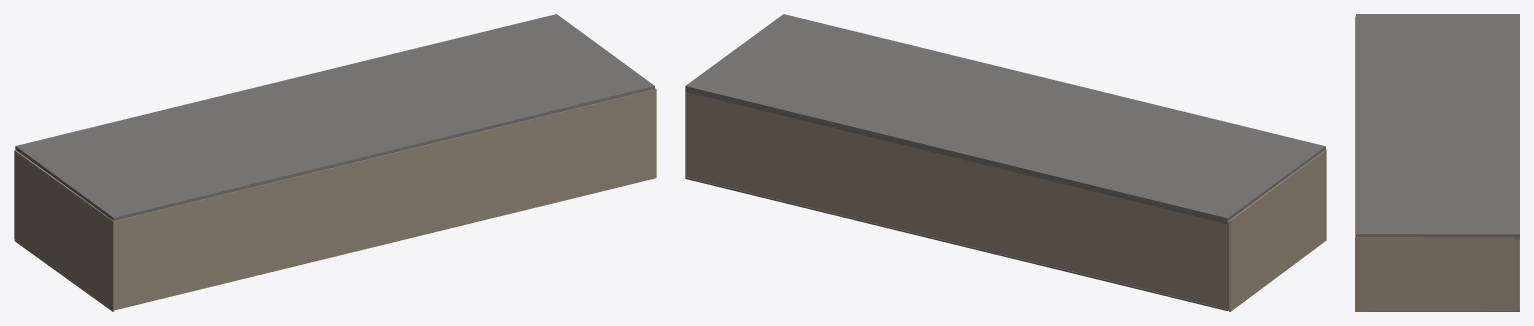
File: hodnik 1.fbx
The picture shows the model from 3 angles, left to right: view 1: azimuth 30°, elevation 25°; view 2: azimuth 150°, elevation 25°; view 3: azimuth 270°, elevation 25°; orthographic projection. The views are drawn at different scales.
Parts seen in each view (by area): view 1: Cube_164, Cube_1, Cube_2; view 2: Cube_164, Cube, Cube_2, Cube_11; view 3: Cube_164, Cube_3, Cube_1, Cube_11, Cube.
Part boxes in pixels (box(x1,y1,x2,y2)): Cube_164: box(15, 14, 654, 220); Cube_1: box(113, 88, 656, 310); Cube_2: box(14, 150, 114, 311); Cube_164: box(685, 14, 1325, 223); Cube: box(685, 92, 1230, 310); Cube_2: box(1229, 149, 1326, 311); Cube_11: box(685, 177, 1227, 310); Cube_164: box(1356, 14, 1519, 239); Cube_3: box(1356, 237, 1517, 311); Cube_1: box(1355, 16, 1356, 311); Cube_11: box(1370, 239, 1519, 311); Cube: box(1517, 237, 1519, 311).
Size of the model in its own units: 7083 by 1127 by 2149.
